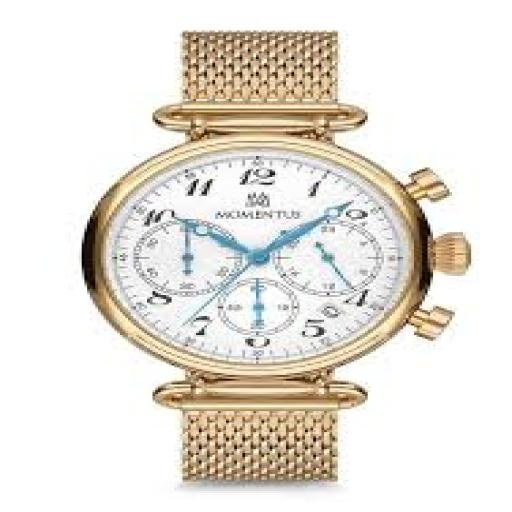KolSaati: (69, 16, 476, 496)
